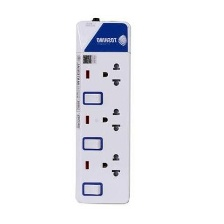three_eye_plug: (72, 17, 133, 205)
